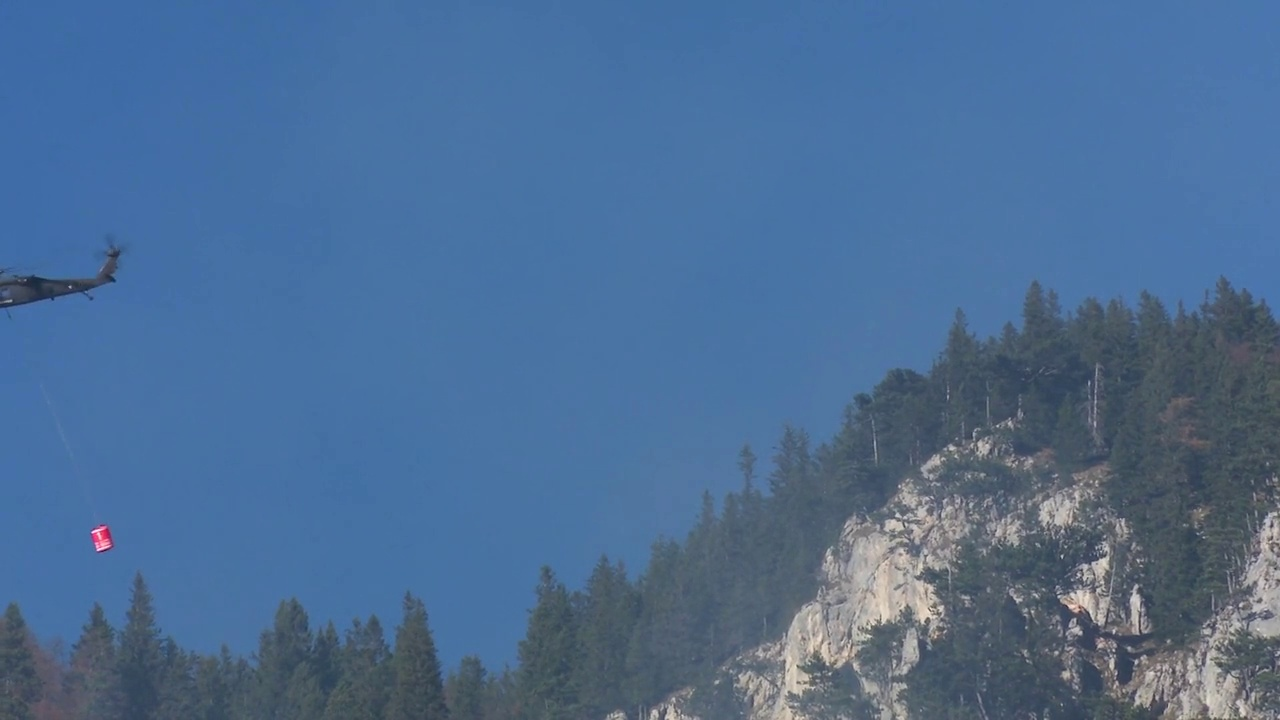heli: (1, 234, 128, 319)
